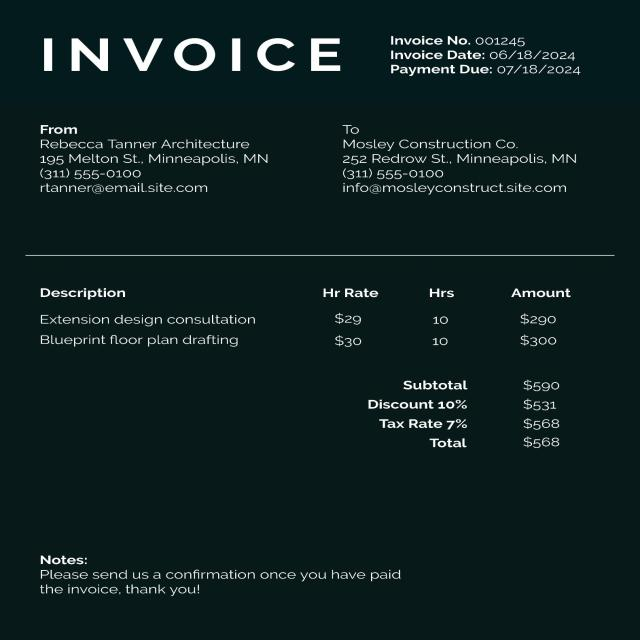paragraph: (35, 551, 411, 611), (330, 119, 582, 204), (32, 120, 284, 201), (351, 376, 579, 454), (29, 26, 344, 80), (378, 32, 584, 84)
table: (23, 272, 594, 356)
